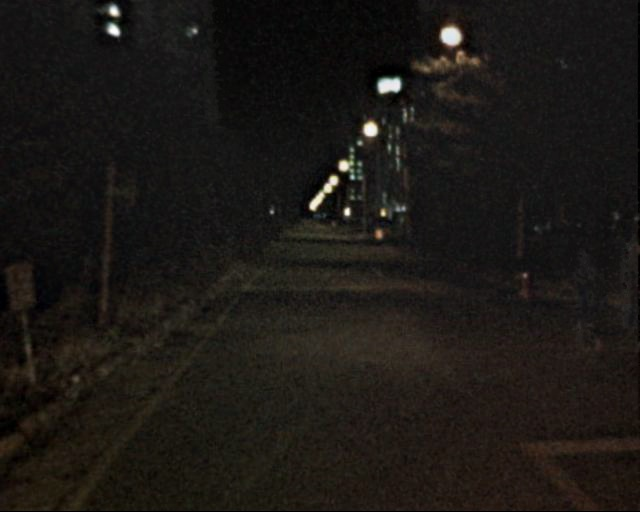person: (563, 243, 607, 351), (615, 232, 640, 359)
